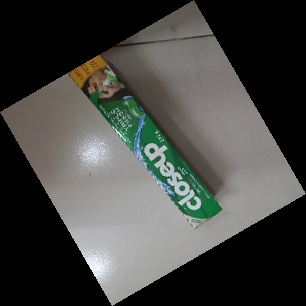CloseUp Xanh: (64, 41, 223, 232)
